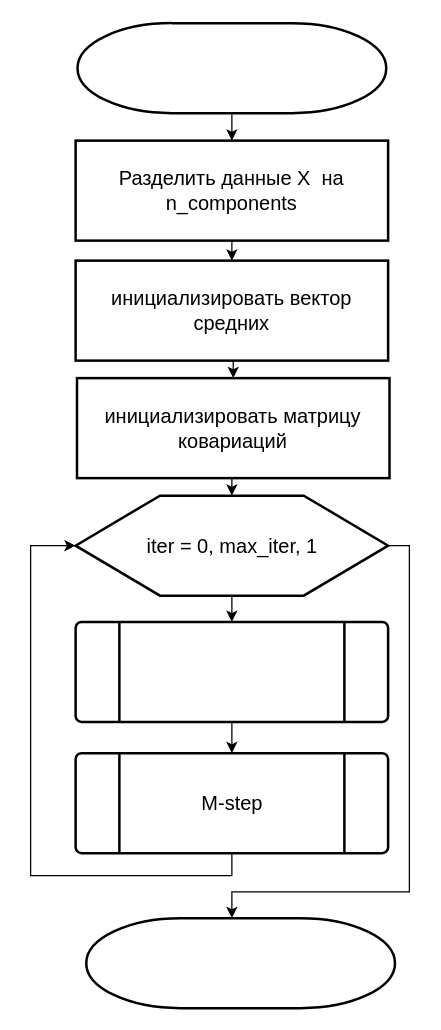
The diagram is 441 pixels wide and 1030 high, and some of its shapes have lost their labels. The shapes that lost their labels are listed below. From the top down, each one's box as (x1, y1, x2, y2) in pixels, then its label:
(76, 21, 387, 114): Начало
(74, 620, 389, 722): E-step
(84, 916, 396, 1009): Конец
